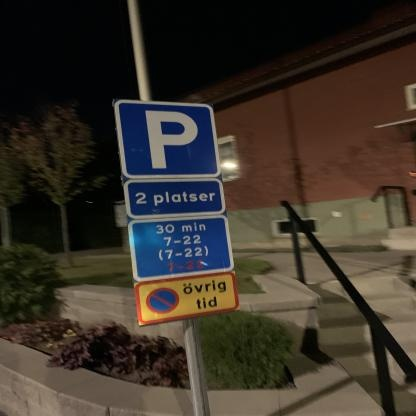P-skylt: (112, 96, 224, 180)
